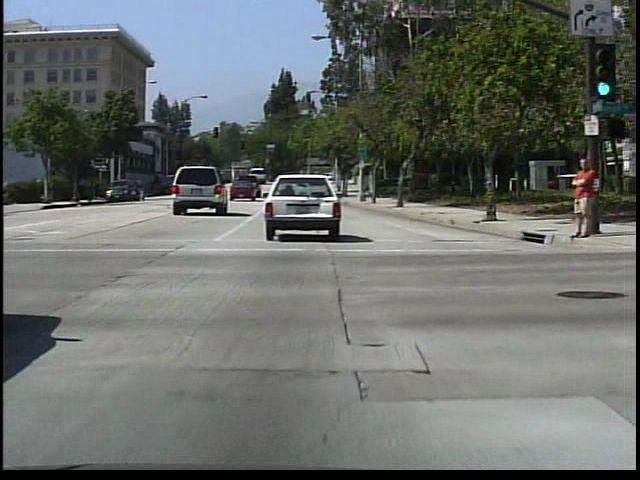person: (566, 155, 598, 243)
